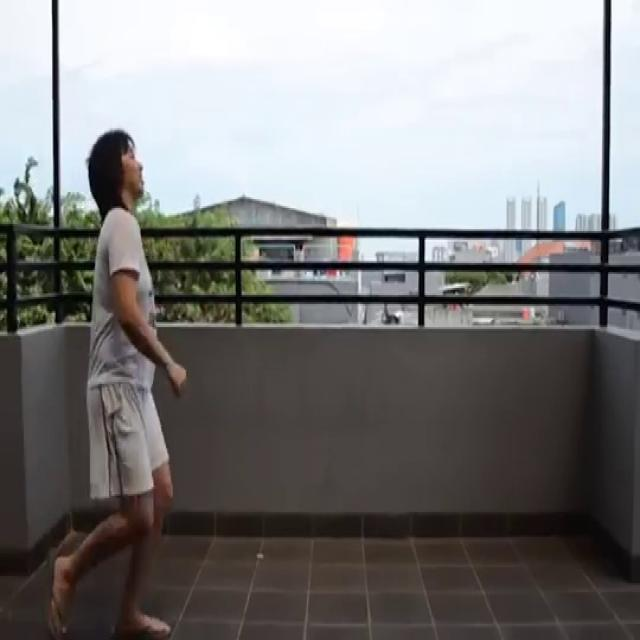normal: (35, 122, 194, 640)
